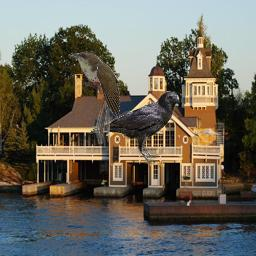Crow: (86, 91, 179, 164)
Cuckoo: (69, 51, 120, 144)
